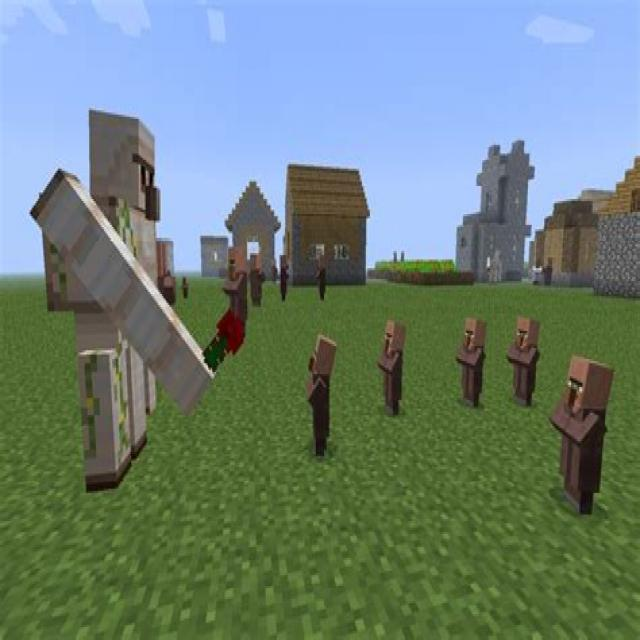Iron Golem: (31, 96, 220, 501)
